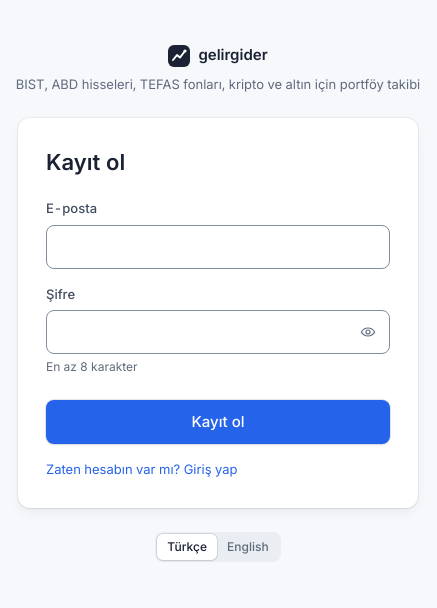
RegisterPage › falls back to the login page with a notice when auto-login fails
Type "a@b.com" into the field labelled "E-posta".
click(218, 247); type("a@b.com")  # box 46,225 -> 390,269
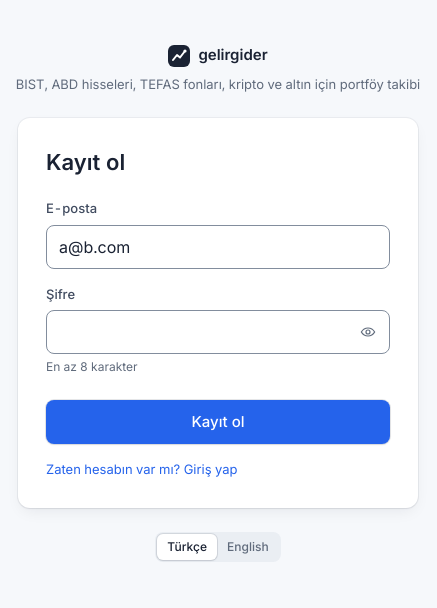
Type "password123" into the password field labelled "Şifre".
click(218, 332); type("password123")  # box 46,310 -> 390,354
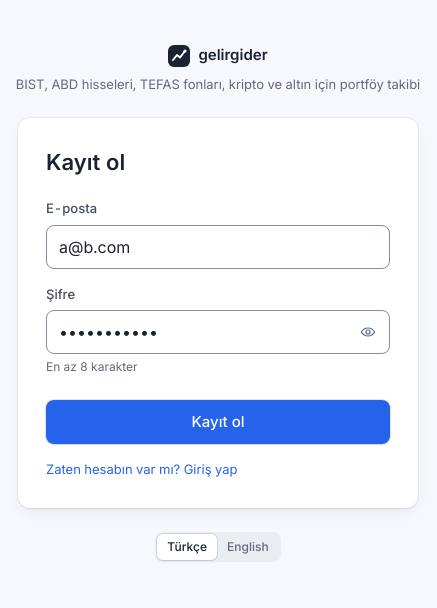
Click the button "Kayıt ol".
click(218, 422)  # box 46,400 -> 390,444
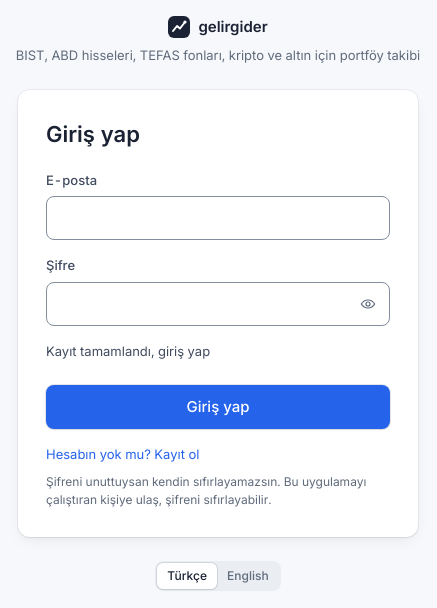
Result: the text "Kayıt tamamlandı, giriş yap" is shown at 46,342 -> 210,358
Result: the button "Giriş yap" is shown at 46,385 -> 390,429
